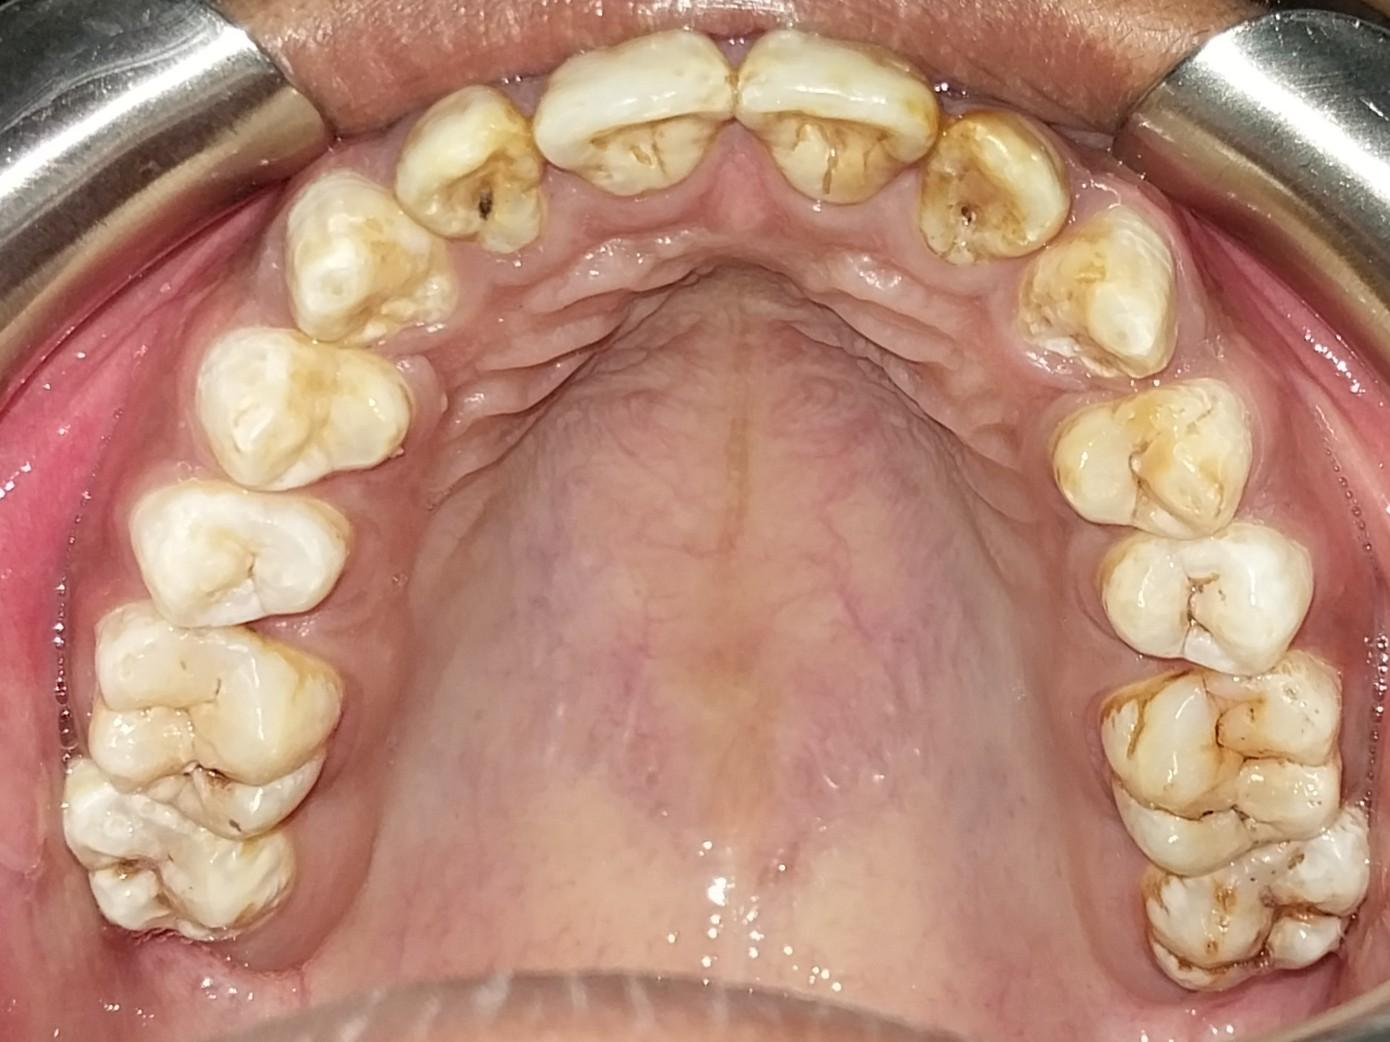D: (85, 615, 337, 837), (1097, 663, 1340, 863), (1103, 522, 1320, 679), (397, 87, 546, 249), (922, 104, 1074, 256)
